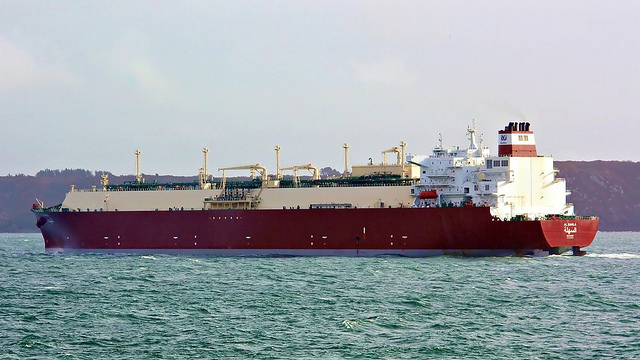LNG_ship: (30, 123, 600, 261)
